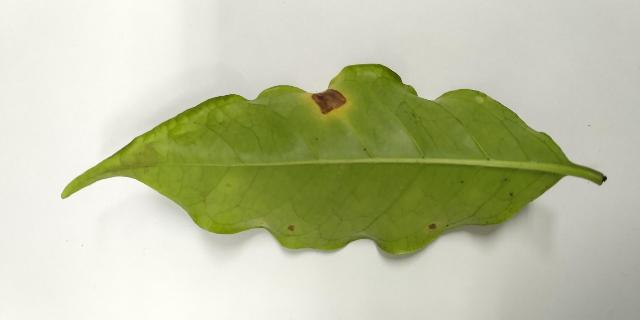phoma: (303, 87, 351, 118), (428, 222, 436, 230), (288, 225, 295, 231)
